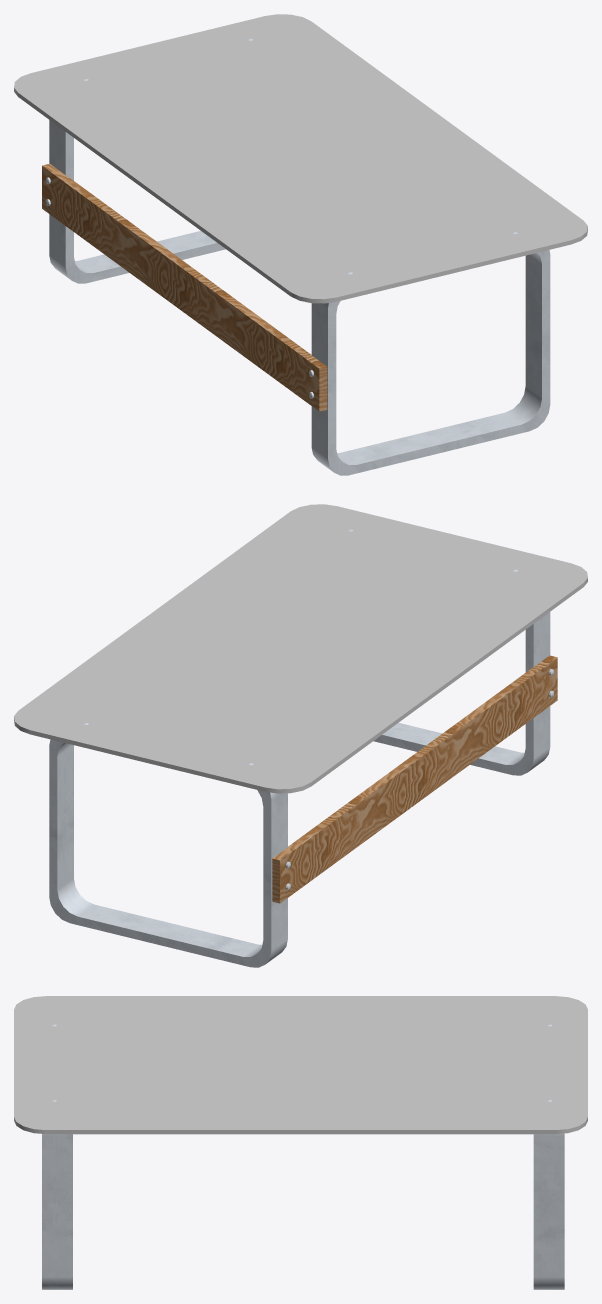
File: SM_DeskWorking.fbx
3 renders of one model, top to bottom at view 1: azimuth 30°, elevation 25°; view 2: azimuth 150°, elevation 25°; view 3: azimuth 270°, elevation 25°, orthographic. The views are drawn at different scales.
Parts seen in each view (by area): view 1: SM_DeskWorking_LOD0; view 2: SM_DeskWorking_LOD0; view 3: SM_DeskWorking_LOD0.
Boxes of the visible parts, x1,y1,x2,y2 form: SM_DeskWorking_LOD0: [14, 14, 587, 475]; SM_DeskWorking_LOD0: [14, 504, 587, 967]; SM_DeskWorking_LOD0: [14, 996, 587, 1289].
Size of the model in its own units: 132 by 239 by 84.43.
Materials: 3 (2 with a texture image).
